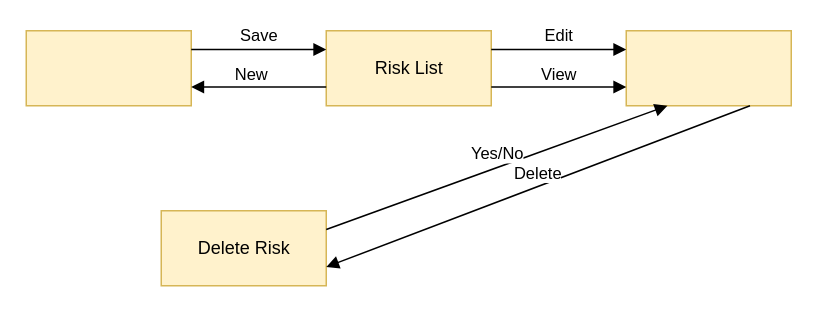
This 818x312 diagram has some shape labels left out. The shapes that lost their labels are listed below. From the top down, each one's centre as x and y in pixels, then its label:
At point (108, 67): "New Risk".
At point (708, 67): "Edit Risk".
